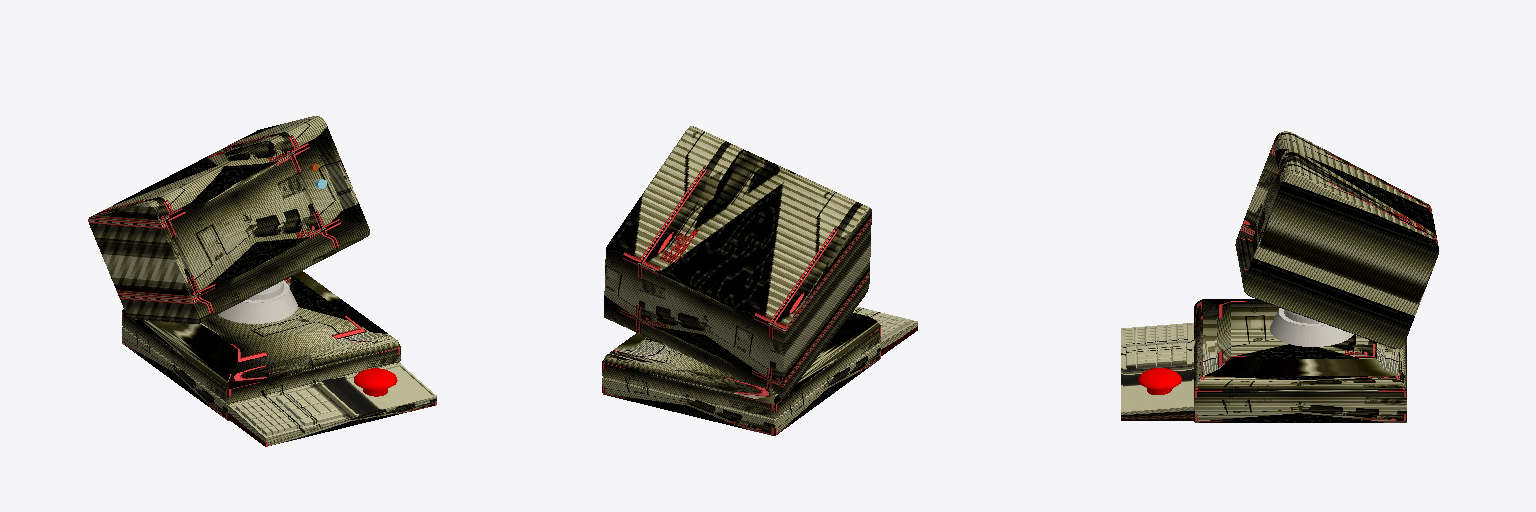
3 views of the same model, side by side, from view 1: azimuth 30°, elevation 25°; view 2: azimuth 150°, elevation 25°; view 3: azimuth 270°, elevation 25° (orthographic).
Visible parts, largest first — view 1: ComputerScreen, Computer_cabinett, Computer_bridge, Computer_destructButton; view 2: ComputerScreen, Computer_cabinett; view 3: ComputerScreen, Computer_cabinett, Computer_bridge, Computer_destructButton.
Boxes of the visible parts, x1,y1,x2,y2 form: ComputerScreen: [88, 116, 369, 323]; Computer_cabinett: [122, 271, 436, 446]; Computer_bridge: [218, 280, 297, 323]; Computer_destructButton: [354, 368, 397, 396]; ComputerScreen: [604, 126, 871, 399]; Computer_cabinett: [602, 307, 917, 435]; ComputerScreen: [1235, 131, 1438, 348]; Computer_cabinett: [1121, 299, 1406, 422]; Computer_bridge: [1270, 308, 1353, 346]; Computer_destructButton: [1138, 368, 1181, 394].
Size of the model in its own units: 4221 by 4556 by 5621.
Materials: 5 (1 with a texture image).